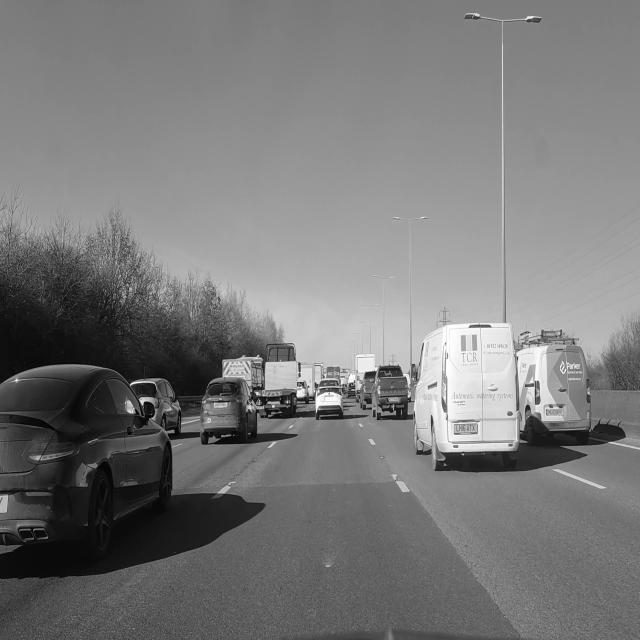car: (0, 365, 172, 559), (414, 323, 519, 470), (517, 331, 592, 445), (200, 377, 258, 445), (131, 379, 181, 434), (371, 361, 411, 423), (315, 385, 343, 419), (360, 371, 375, 409), (297, 381, 309, 403)
